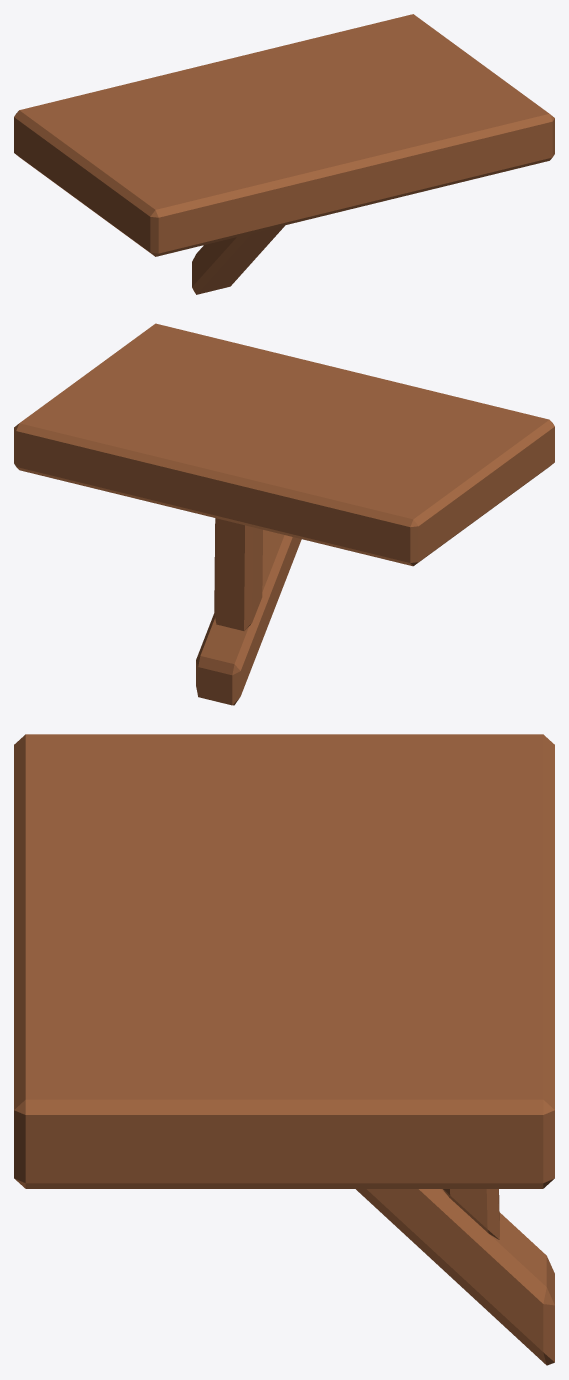
Rendered from Wall Shelf B.glb.
The picture shows the model from 3 angles, top to bottom: view 1: azimuth 30°, elevation 25°; view 2: azimuth 150°, elevation 25°; view 3: azimuth 270°, elevation 25°; orthographic projection. The views are drawn at different scales.
Visible parts, largest first — view 1: Wall shelf B; view 2: Wall shelf B; view 3: Wall shelf B.
Boxes of the visible parts, box(x1,y1,x2,y2) form: Wall shelf B: box(14, 14, 554, 294); Wall shelf B: box(14, 323, 554, 705); Wall shelf B: box(14, 734, 554, 1365).
Bounding box in the file's own units: 0.6563 × 0.3547 × 0.4.
